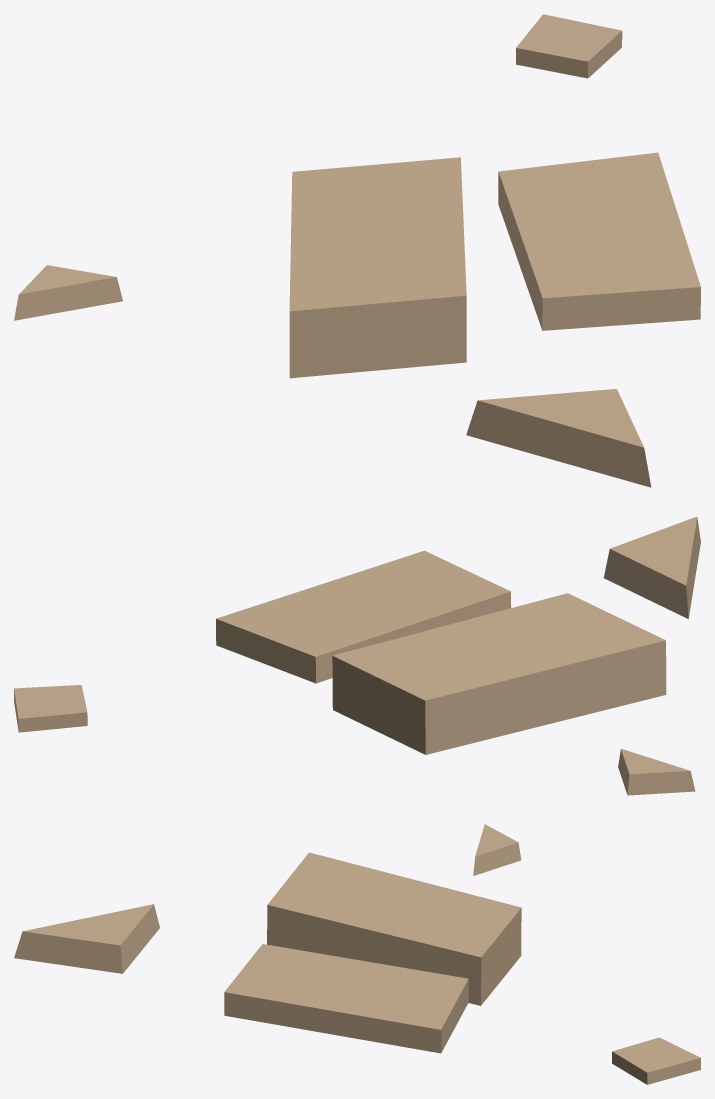
The model's file is Rocks_Flat_s_03.fbx.
3 renders of one model, top to bottom at view 1: azimuth 30°, elevation 25°; view 2: azimuth 150°, elevation 25°; view 3: azimuth 270°, elevation 25°, orthographic. The views are drawn at different scales.
Visible parts, largest first — view 1: Rocks_Flat_s_03; view 2: Rocks_Flat_s_03; view 3: Rocks_Flat_s_03.
Boxes of the visible parts, x1,y1,x2,y2 form: Rocks_Flat_s_03: [14, 14, 700, 487]; Rocks_Flat_s_03: [14, 516, 700, 795]; Rocks_Flat_s_03: [14, 824, 700, 1084].
Size of the model in its own units: 46.56 by 4.35 by 52.72.
